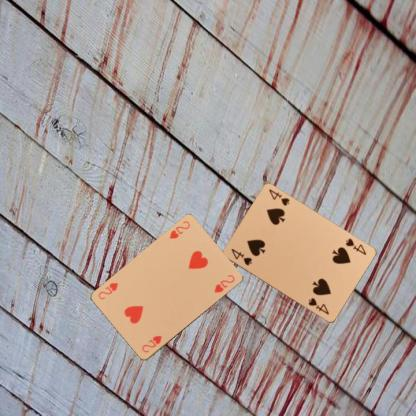2h: (167, 218, 191, 240), (139, 334, 163, 354)
4s: (228, 246, 253, 267), (342, 236, 367, 256)
